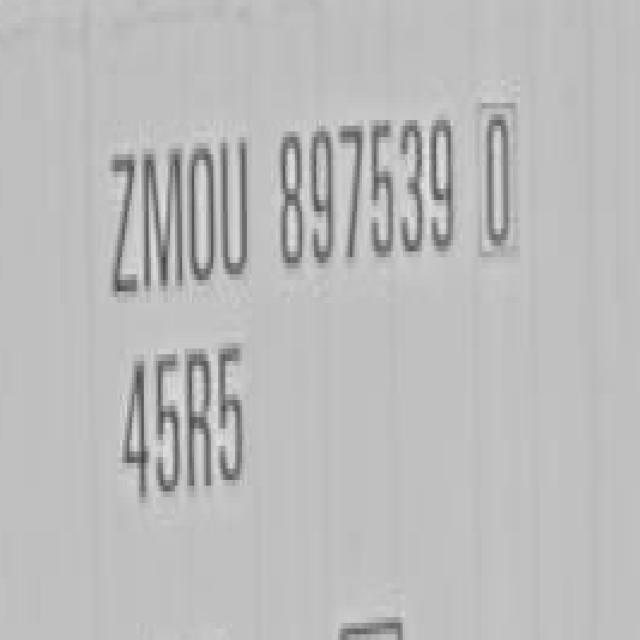dv: (470, 87, 523, 281)
owner: (101, 105, 258, 308)
serial: (273, 90, 459, 288)
size: (113, 330, 256, 528)
